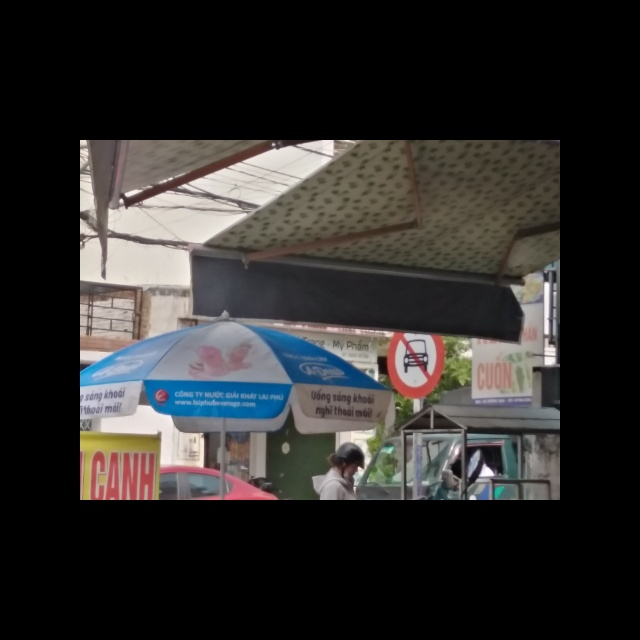Cấm xe ô tô: (386, 332, 449, 401)
